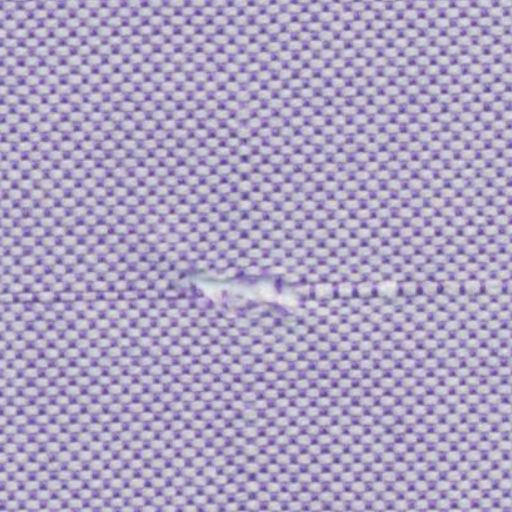PoDong: (160, 242, 313, 346)
